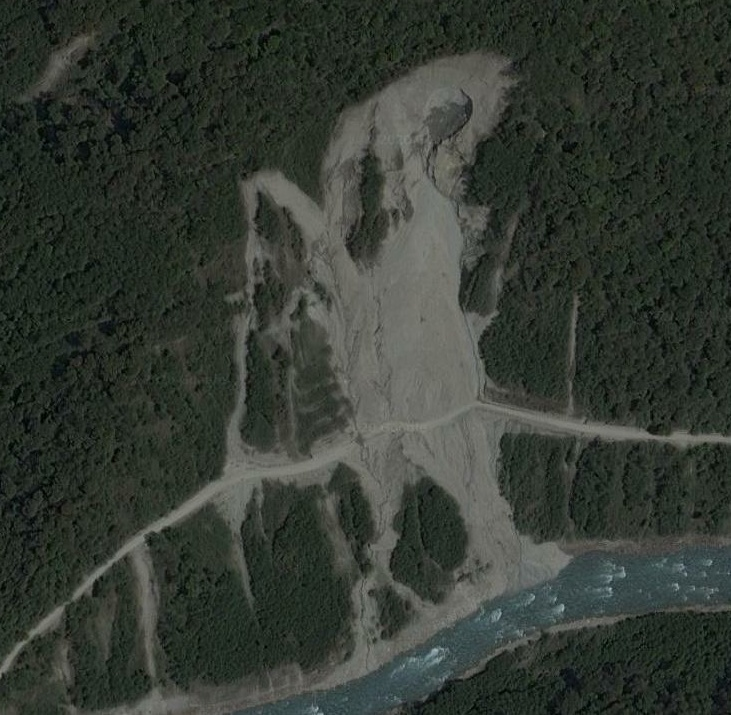slope: (225, 45, 529, 464), (210, 408, 572, 688)
